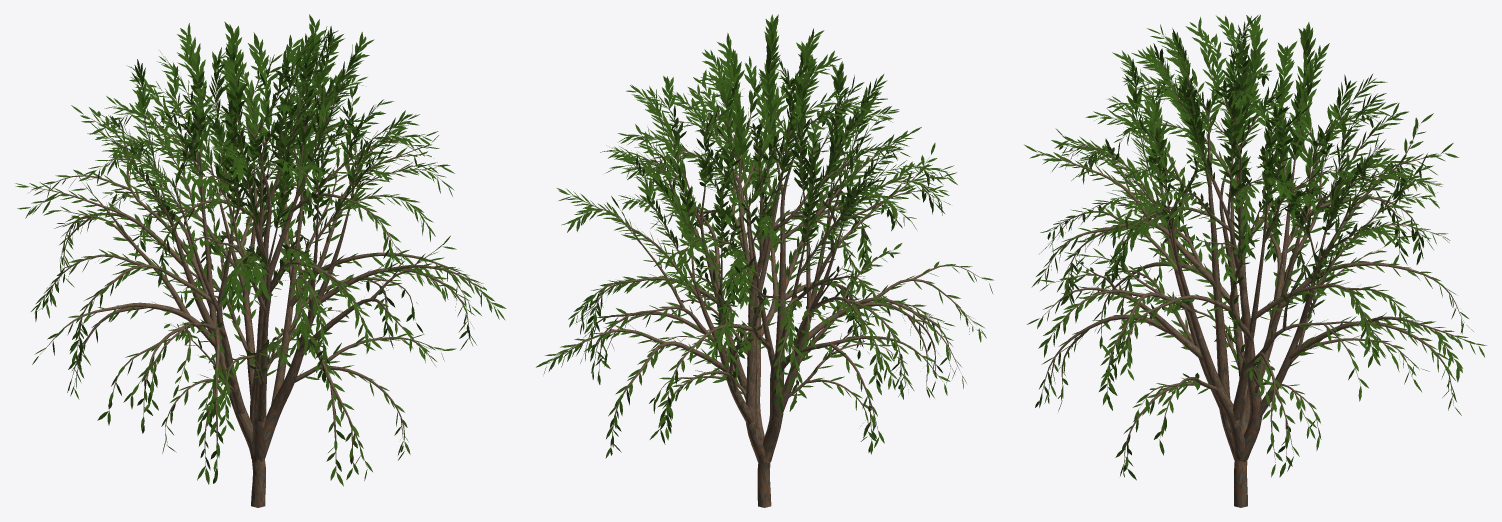
Rendered from Large Bush.fbx.
3 renders of one model, left to right at view 1: azimuth 30°, elevation 25°; view 2: azimuth 150°, elevation 25°; view 3: azimuth 270°, elevation 25°, orthographic. The views are drawn at different scales.
Visible parts, largest first — view 1: leaves.003, tree.003; view 2: leaves.003, tree.003; view 3: leaves.003, tree.003.
Boxes of the visible parts, x1,y1,x2,y2 form: leaves.003: (15,14,506,486); tree.003: (31,33,495,507); leaves.003: (536,14,993,458); tree.003: (548,42,986,507); leaves.003: (1024,15,1486,480); tree.003: (1040,29,1477,507).
Size of the model in its own units: 994 by 1189 by 1028.
Materials: 2 (1 with a texture image).
